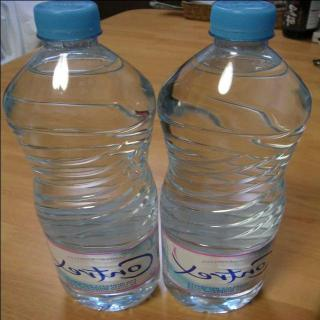Anorganik: (158, 0, 305, 314), (14, 0, 148, 320)
